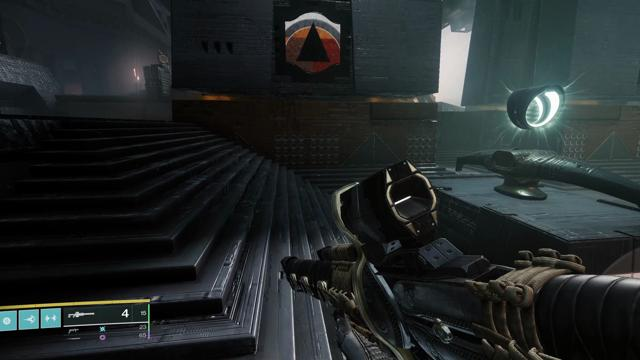pyramid: (285, 12, 341, 73)
